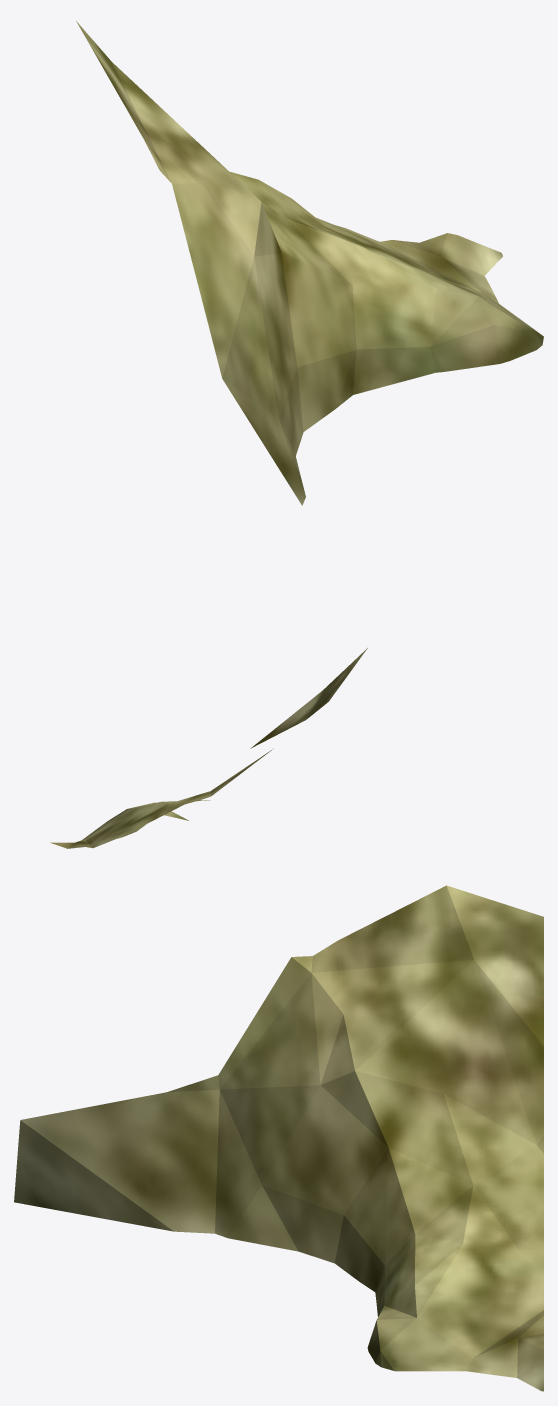
The picture shows the model from 3 angles, top to bottom: view 1: azimuth 30°, elevation 25°; view 2: azimuth 150°, elevation 25°; view 3: azimuth 270°, elevation 25°; orthographic projection. The views are drawn at different scales.
Size of the model in its own units: 1.03 by 0.8037 by 1.22.
1 material, 1 textured.
